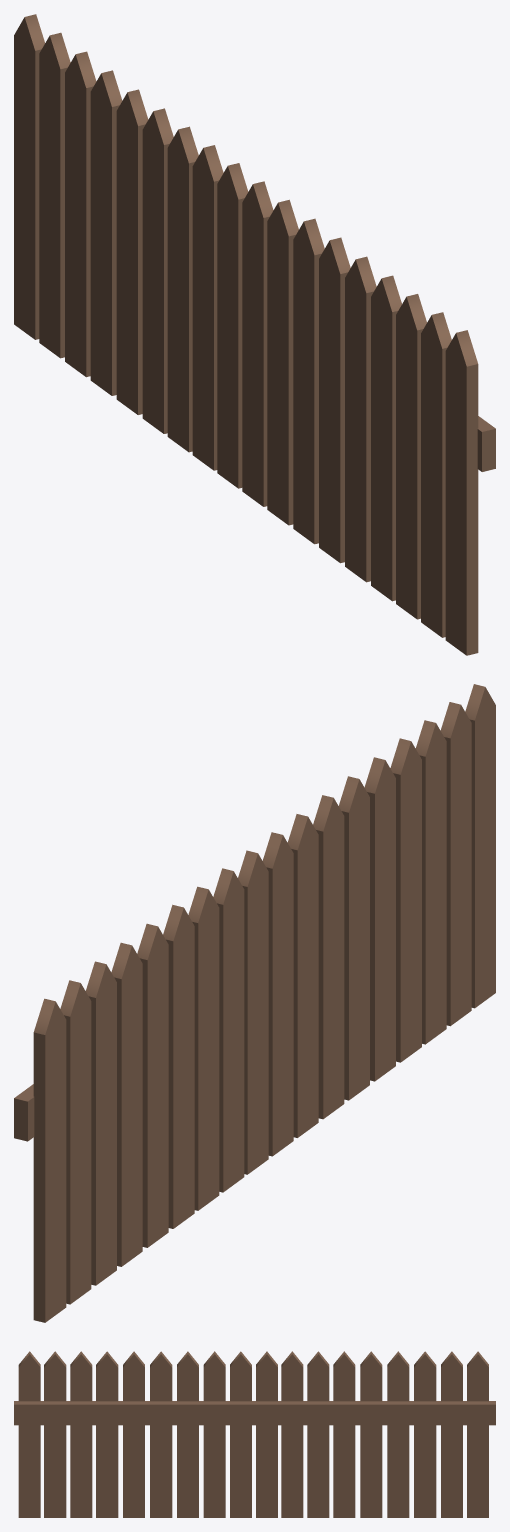
Rendered from fence_wood.fbx.
3 renders of one model, top to bottom at view 1: azimuth 30°, elevation 25°; view 2: azimuth 150°, elevation 25°; view 3: azimuth 270°, elevation 25°, orthographic. The views are drawn at different scales.
Visible parts, largest first — view 1: fence1; view 2: fence1; view 3: fence1.
Part boxes in pixels (bbox=[...]): fence1: bbox=[14, 14, 495, 655]; fence1: bbox=[14, 684, 495, 1322]; fence1: bbox=[14, 1351, 495, 1517].
Size of the model in its own units: 0.183 by 2.23 by 5.95.
